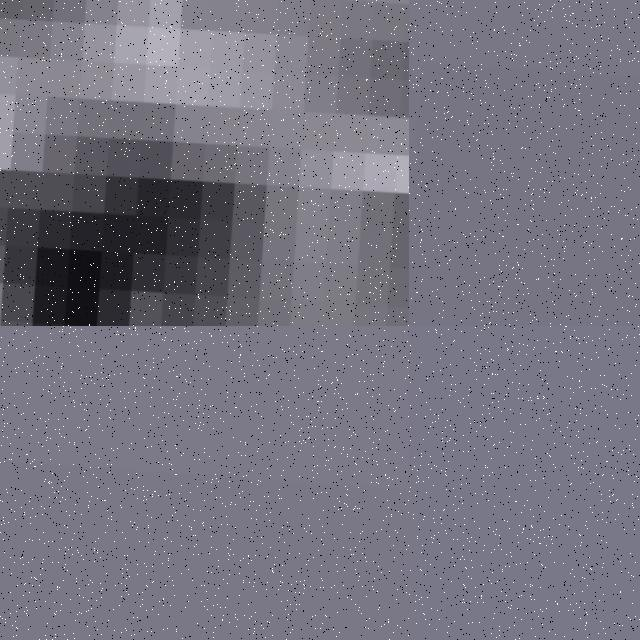drone: (0, 0, 409, 326)
